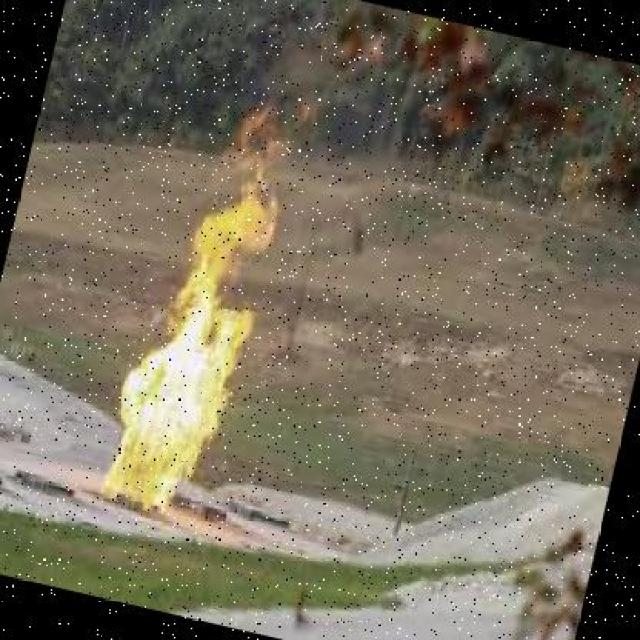fire: (91, 105, 306, 528)
